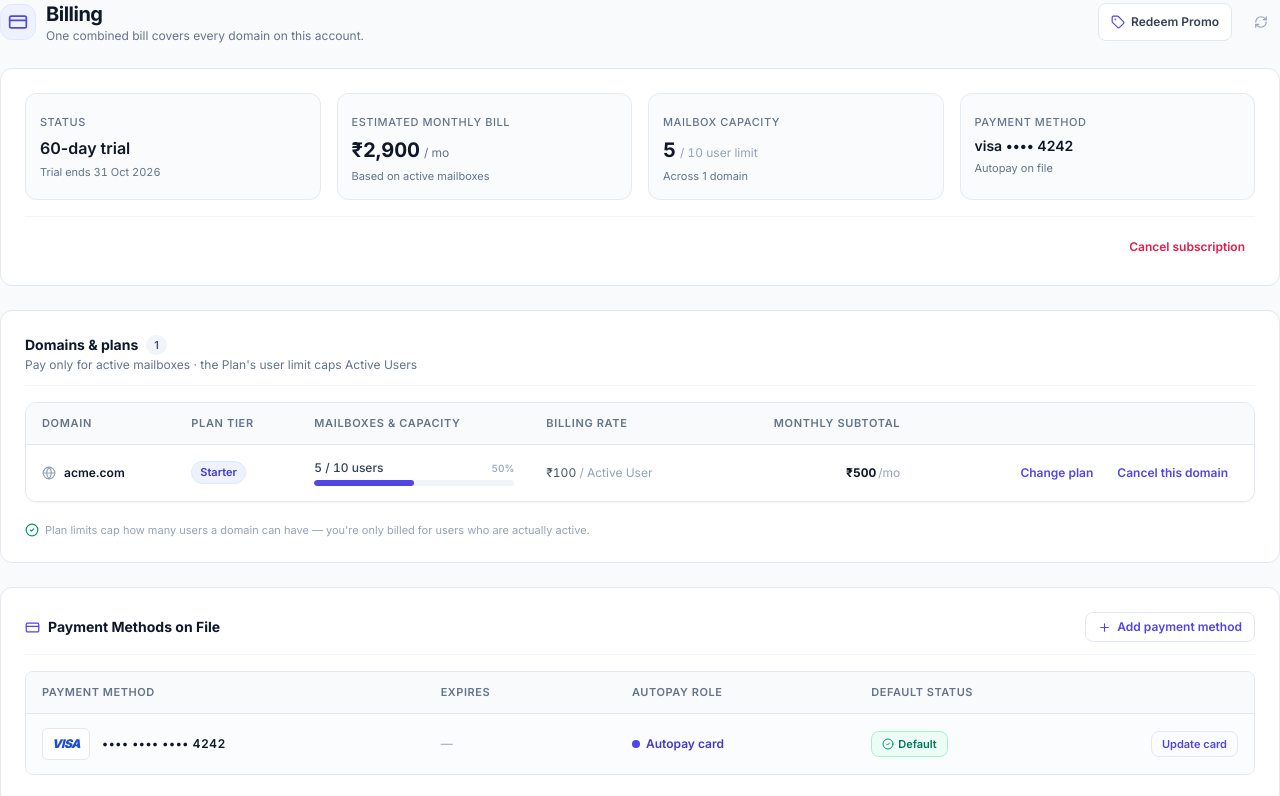
Test case: BillingView: changing a domain's Plan › cancelling a domain and choosing a plan again › as the only billed domain, says the subscription ends at period end and mail works until then
Click the button "Cancel this domain" at coordinates (1173, 472), box [1107, 458, 1238, 486]
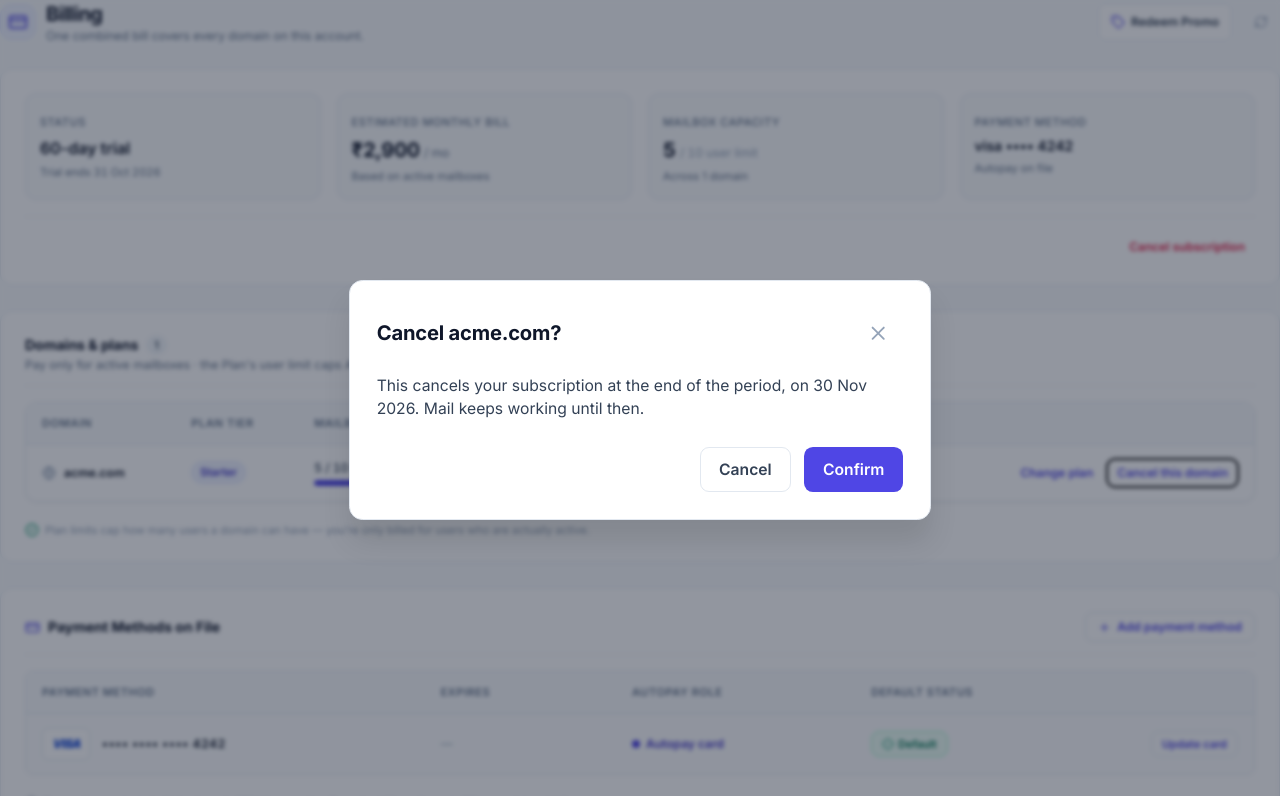
Check: the dialog shows "This cancels your subscription at the end of the period, on 30 Nov 2026. Mail keeps working until then.", box [377, 376, 867, 418]
